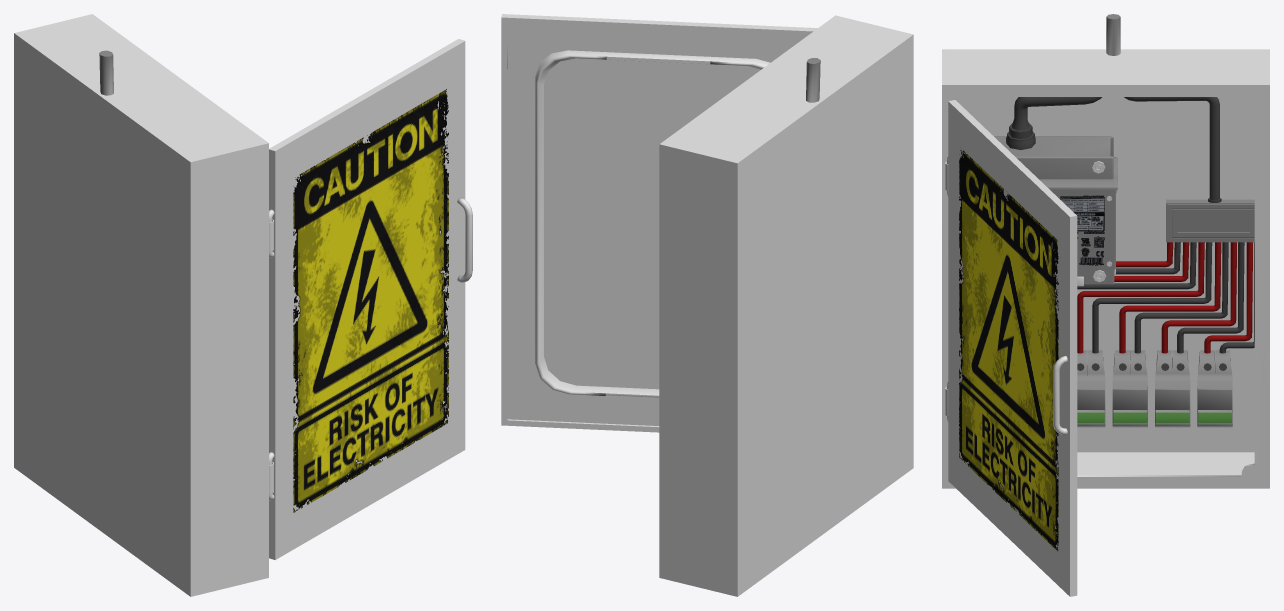
File: SkrzynkaElektryczna.glb
3 renders of one model, left to right at view 1: azimuth 30°, elevation 25°; view 2: azimuth 150°, elevation 25°; view 3: azimuth 270°, elevation 25°, orthographic. The views are drawn at different scales.
Parts seen in each view (by area): view 1: Electrical Box, Electrical Door; view 2: Electrical Box, Electrical Door; view 3: Electrical Box, Electrical Door, Akumulator.
Part boxes in pixels (x1=…): Electrical Box: x1=14, y1=14, x2=273, y2=596; Electrical Door: x1=269, y1=39, x2=472, y2=559; Electrical Box: x1=659, y1=15, x2=913, y2=596; Electrical Door: x1=501, y1=14, x2=817, y2=432; Electrical Box: x1=942, y1=14, x2=1269, y2=488; Electrical Door: x1=947, y1=100, x2=1077, y2=596; Akumulator: x1=994, y1=136, x2=1117, y2=284.
Size of the model in its own units: 0.3874 by 0.5104 by 0.3447.
1 material, 1 textured.
